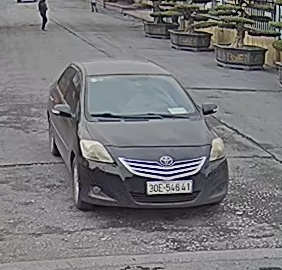vehicle plate: (144, 178, 193, 196)
